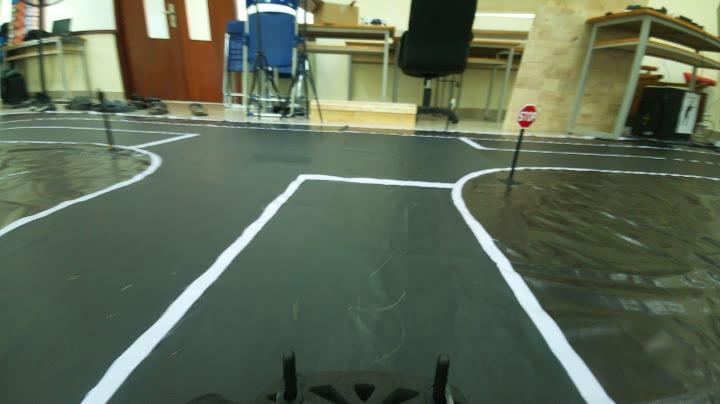stop: (513, 100, 543, 133)
